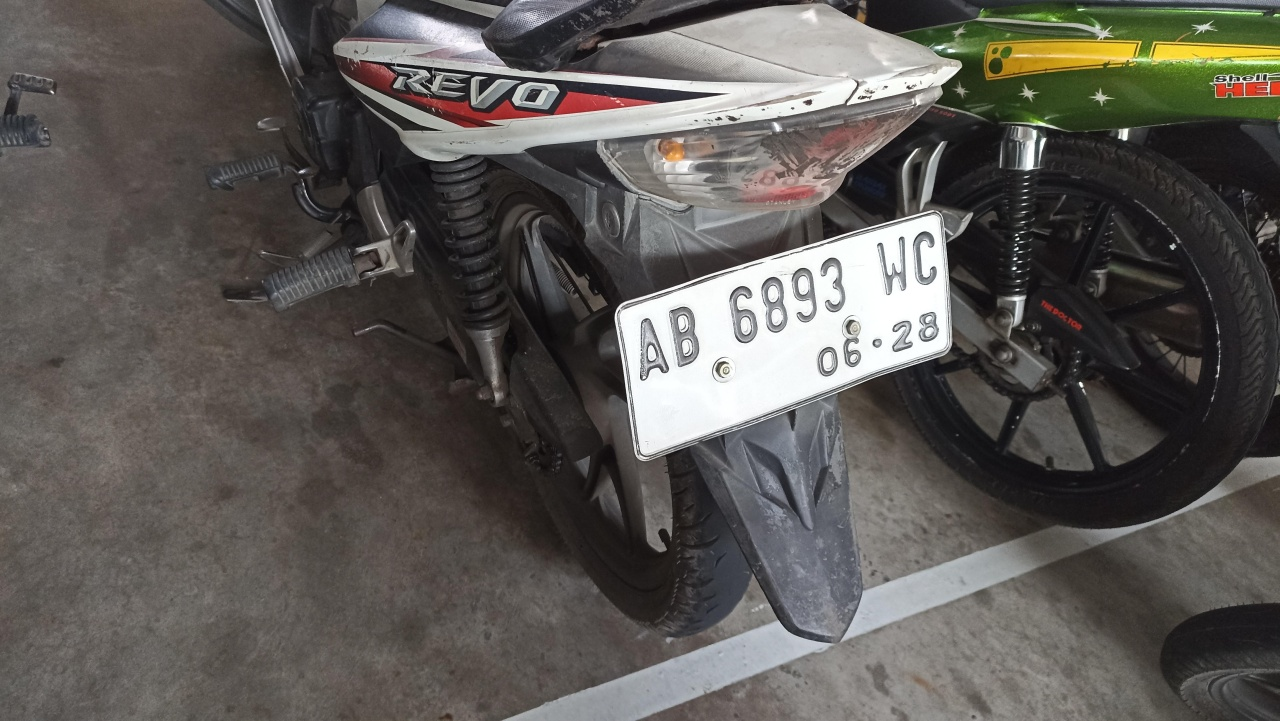plate: (616, 209, 953, 462)
